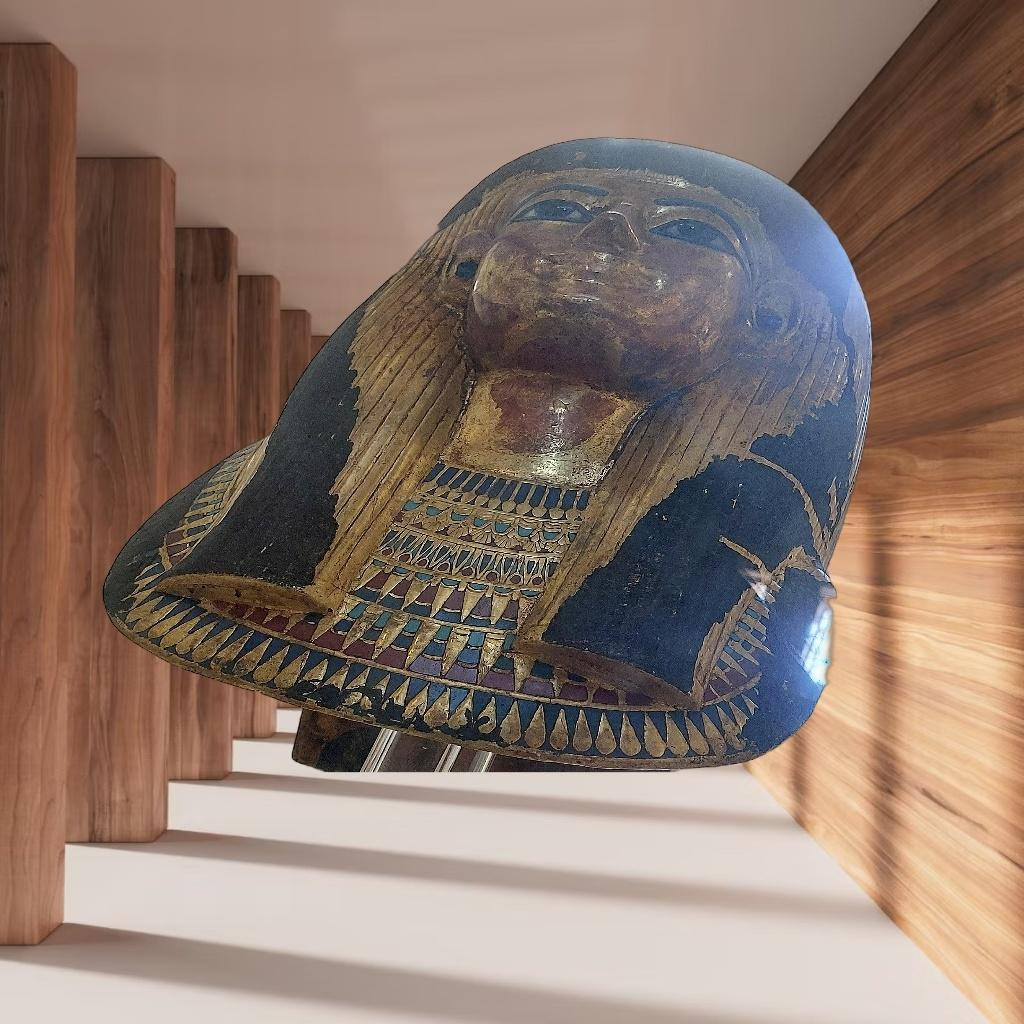Mask of Thuya: (100, 134, 876, 772)
